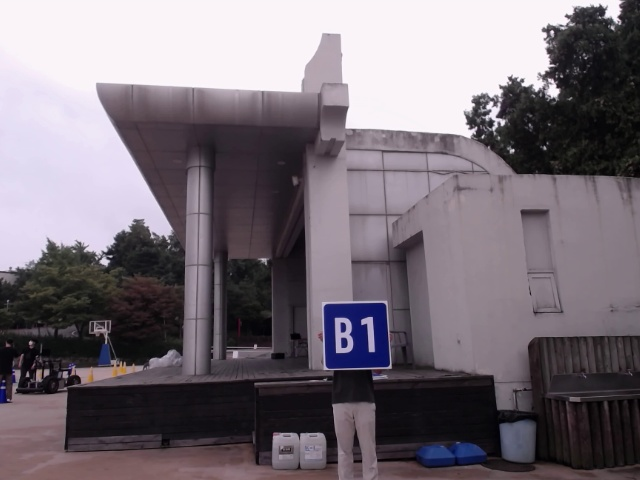delivery_b1: (322, 302, 391, 370)
